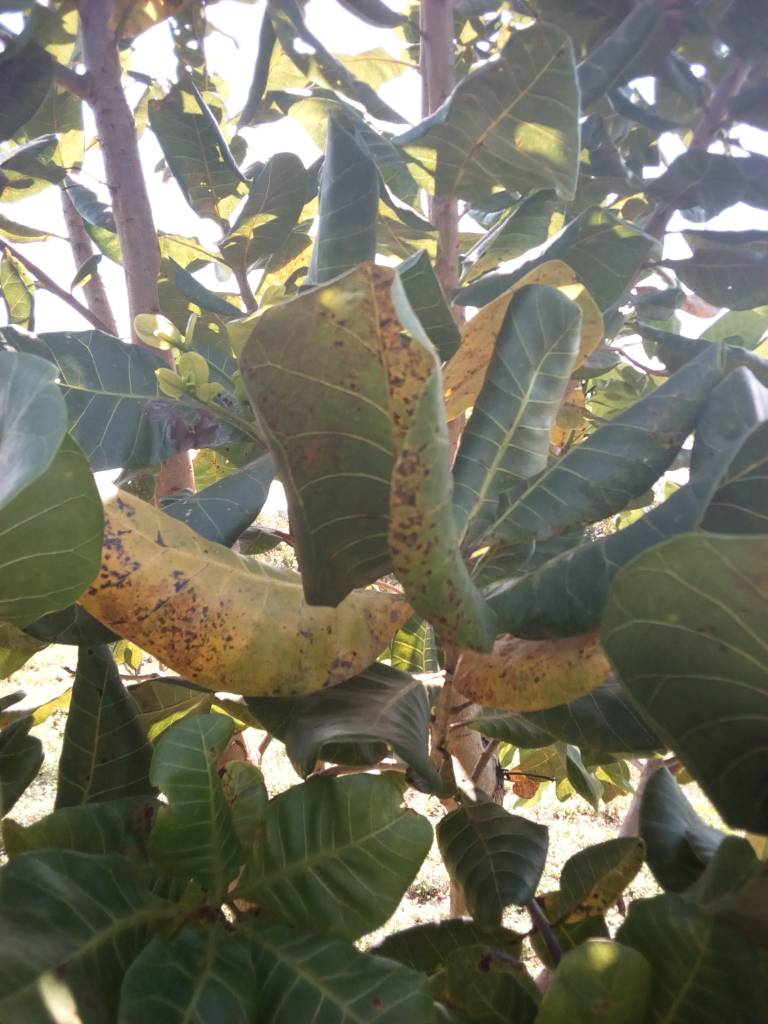Anthracnose: (246, 274, 497, 647), (111, 489, 411, 694), (452, 635, 608, 711)
